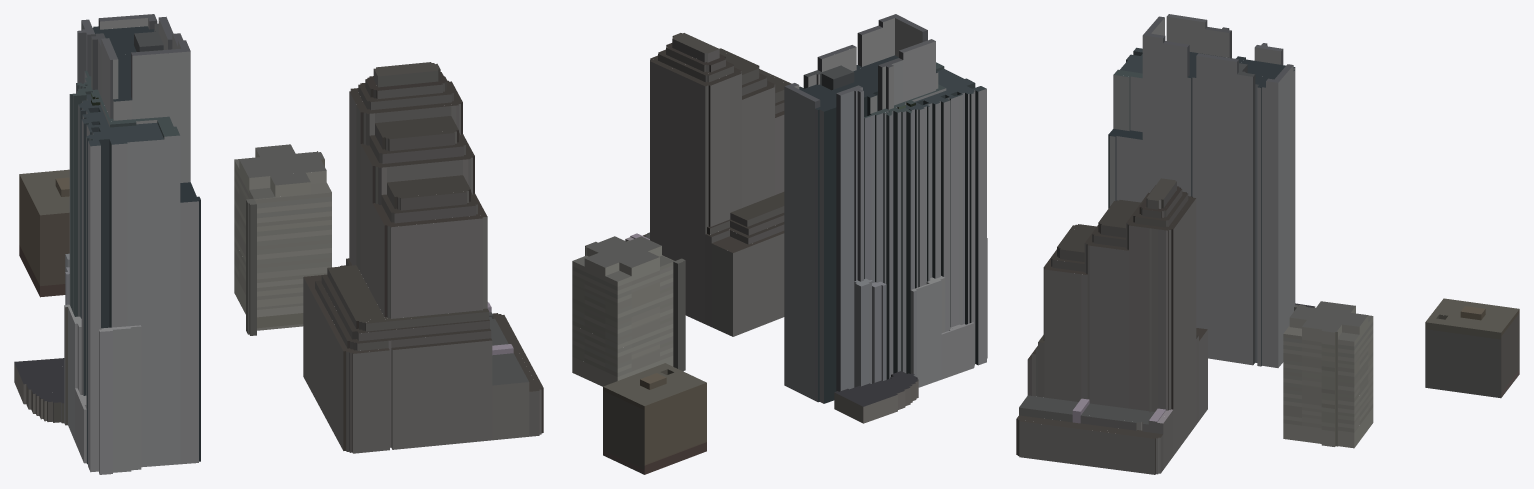
File: t_-2_7.far.glb
3 views of the same model, side by side, from view 1: azimuth 30°, elevation 25°; view 2: azimuth 150°, elevation 25°; view 3: azimuth 270°, elevation 25° (orthographic). The views are drawn at different scales.
Parts seen in each view (by area): view 1: opaque; view 2: opaque; view 3: opaque.
Part boxes in pixels (x1,y1,x2,y2): opaque: (14,14,543,474); opaque: (572,14,987,474); opaque: (1016,14,1519,474).
Size of the model in its own units: 182 by 161 by 233.
1 material, 1 textured.
